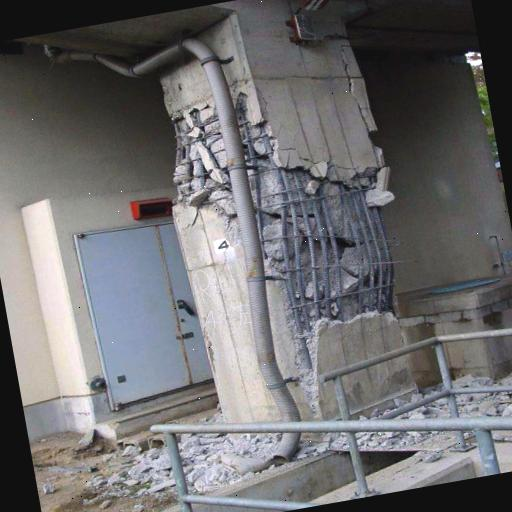spalling: (168, 75, 414, 371)
